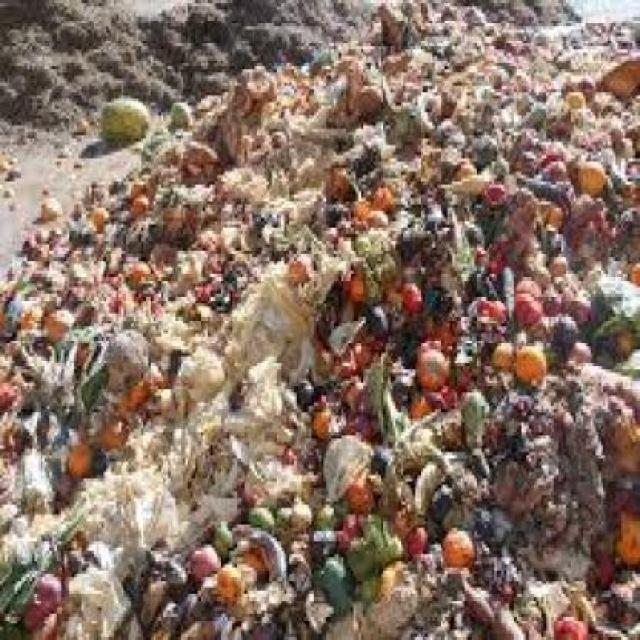garbage: (32, 262, 613, 625), (151, 126, 608, 337), (282, 23, 616, 119)
